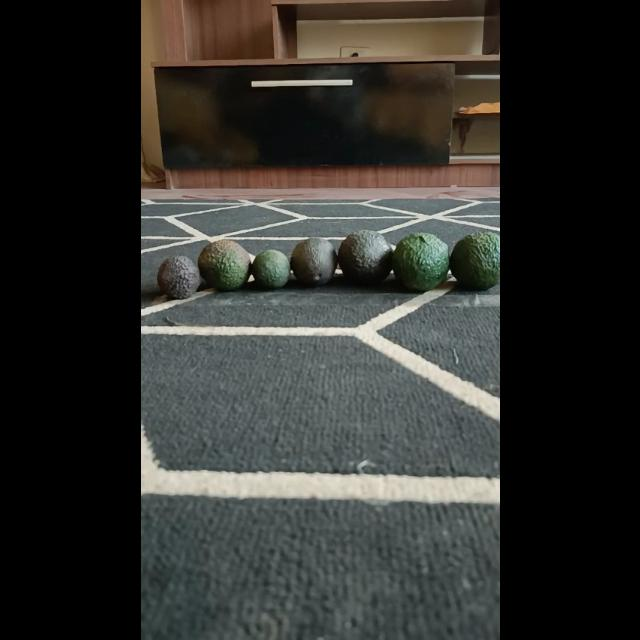Primera: (391, 231, 449, 291), (337, 230, 393, 286), (448, 231, 498, 291)
Segunda: (196, 238, 250, 292), (290, 237, 336, 287)
Tercera: (156, 254, 200, 300), (250, 249, 290, 289)
